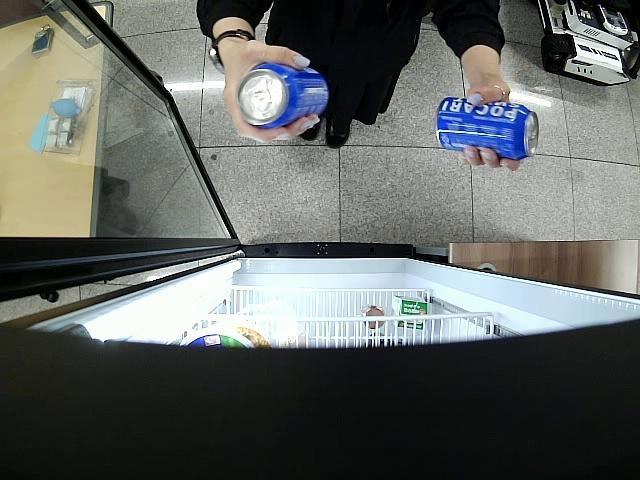13_pocariSweat: (435, 96, 540, 163), (237, 63, 328, 132)
